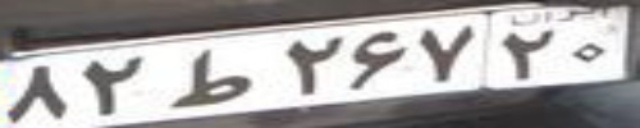0: (567, 41, 607, 65)
2: (79, 56, 142, 115), (284, 36, 343, 95), (502, 28, 554, 80)
6: (348, 30, 408, 93)
7: (418, 23, 476, 83)
8: (5, 64, 68, 121)
taa: (167, 49, 252, 108)
